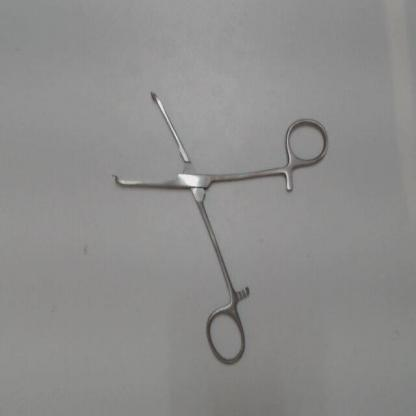Allis Tissue Forceps: (105, 78, 332, 373)
